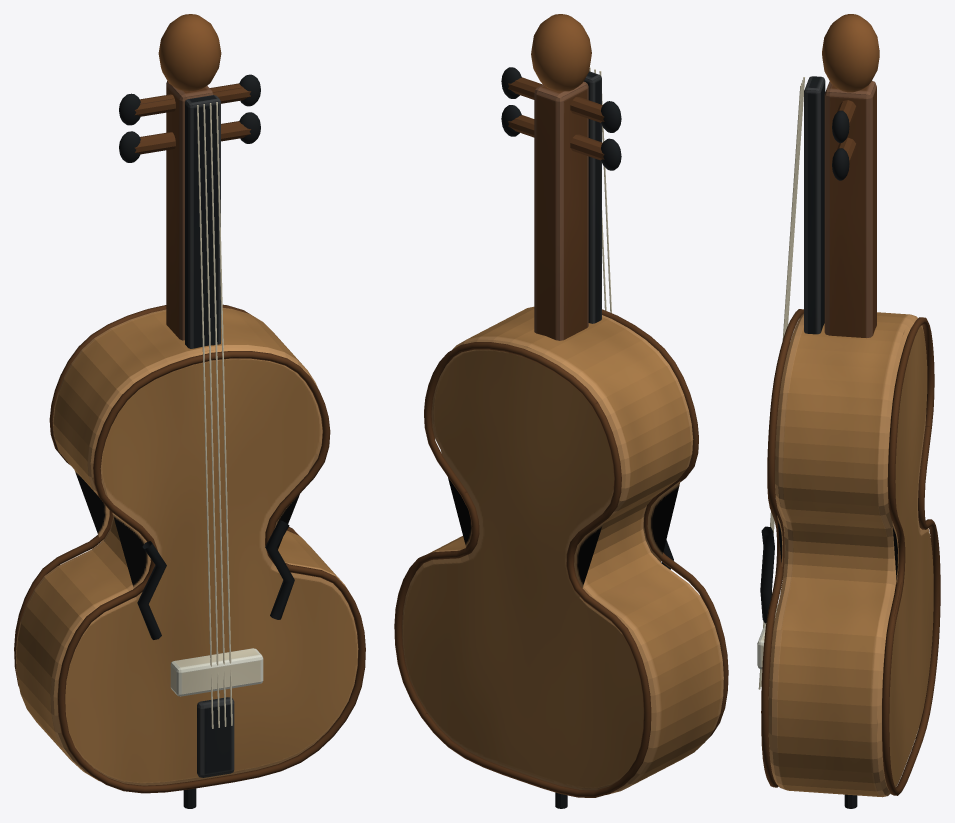
File: 16_Cello.fbx
3 renders of one model, left to right at view 1: azimuth 30°, elevation 25°; view 2: azimuth 150°, elevation 25°; view 3: azimuth 270°, elevation 25°, orthographic.
Visible parts, largest first — view 1: 16_Cello; view 2: 16_Cello; view 3: 16_Cello.
Part boxes in pixels (x1,y1,x2,y2): 16_Cello: (14,14,365,808); 16_Cello: (394,14,728,808); 16_Cello: (757,14,940,808).
Bounding box in the file's own units: 70.84 × 179 × 37.53.
Materials: 1 (1 with a texture image).
